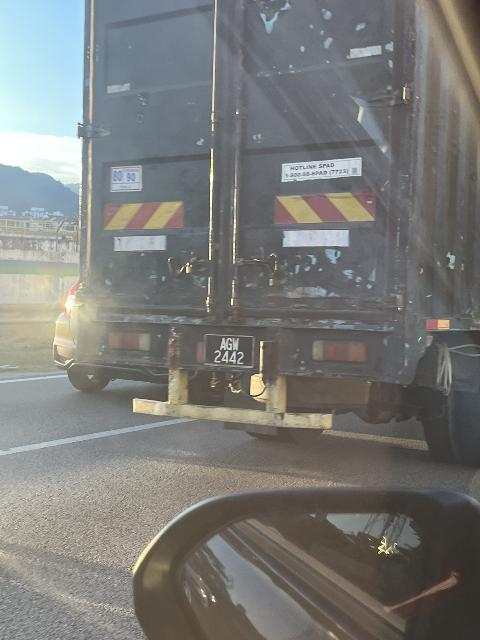License_Plate: (202, 330, 263, 378)
lorry: (75, 3, 480, 476)
